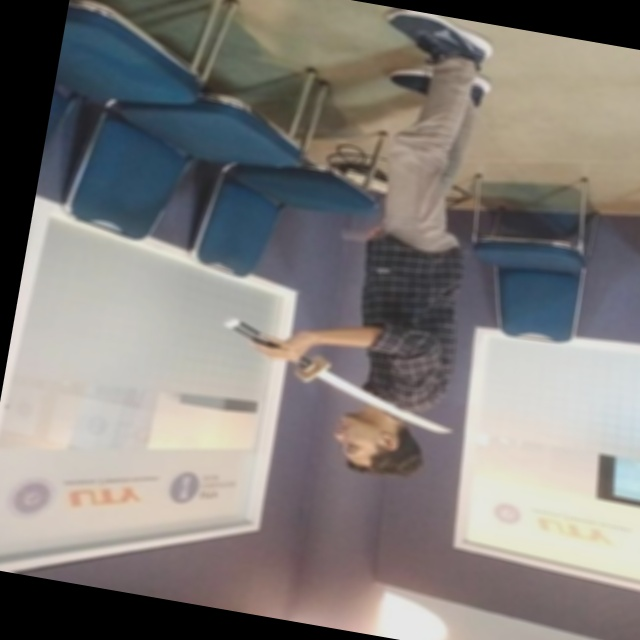Sharp-Object: (203, 316, 471, 439)
